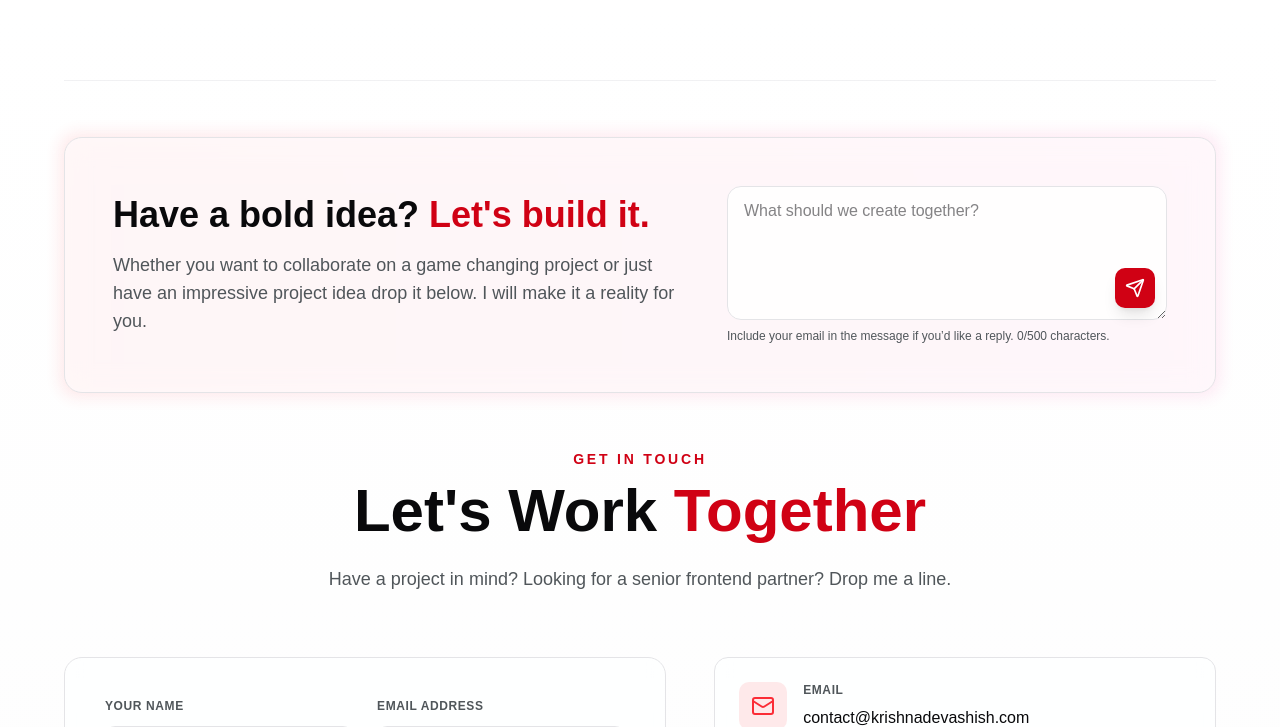
preserves a quick-message draft after failure (rejected=false)
Type "A project idea to discuss." into the text box named "Quick project message" at (947, 253), box [727, 186, 1167, 320]
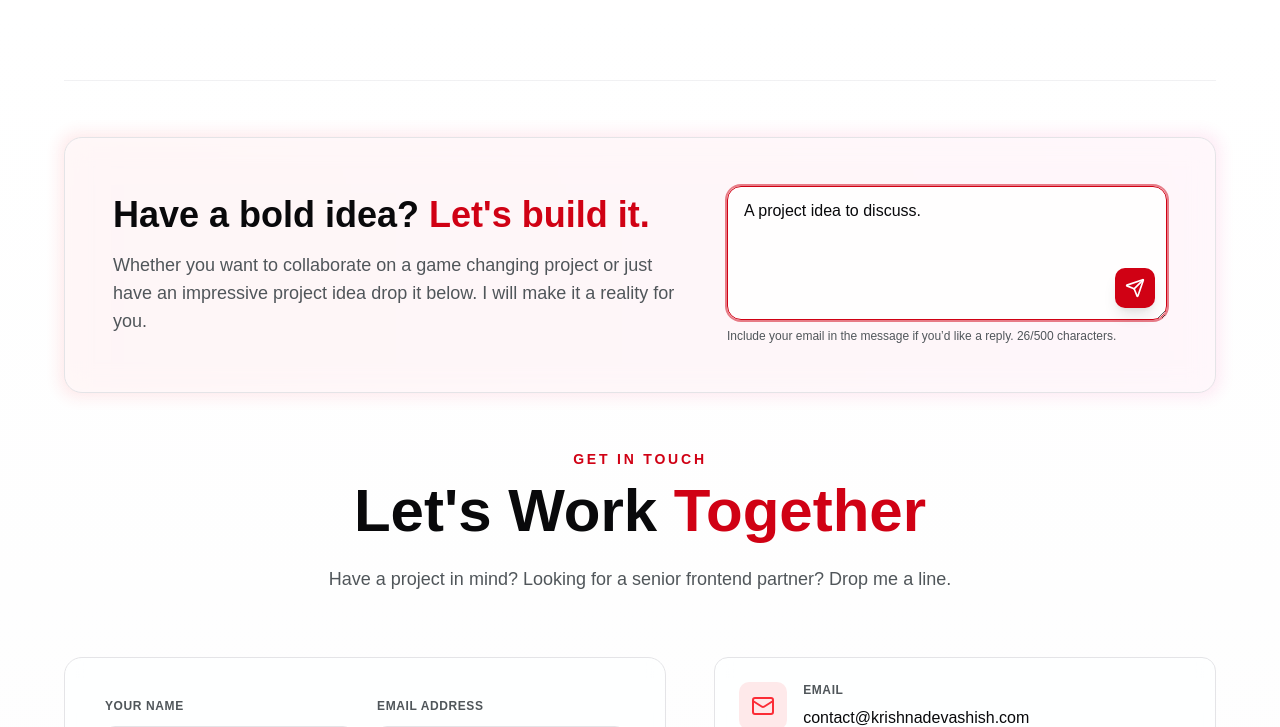
Click the button named "Send message to Krishna" at (1135, 288), box [1115, 268, 1155, 308]
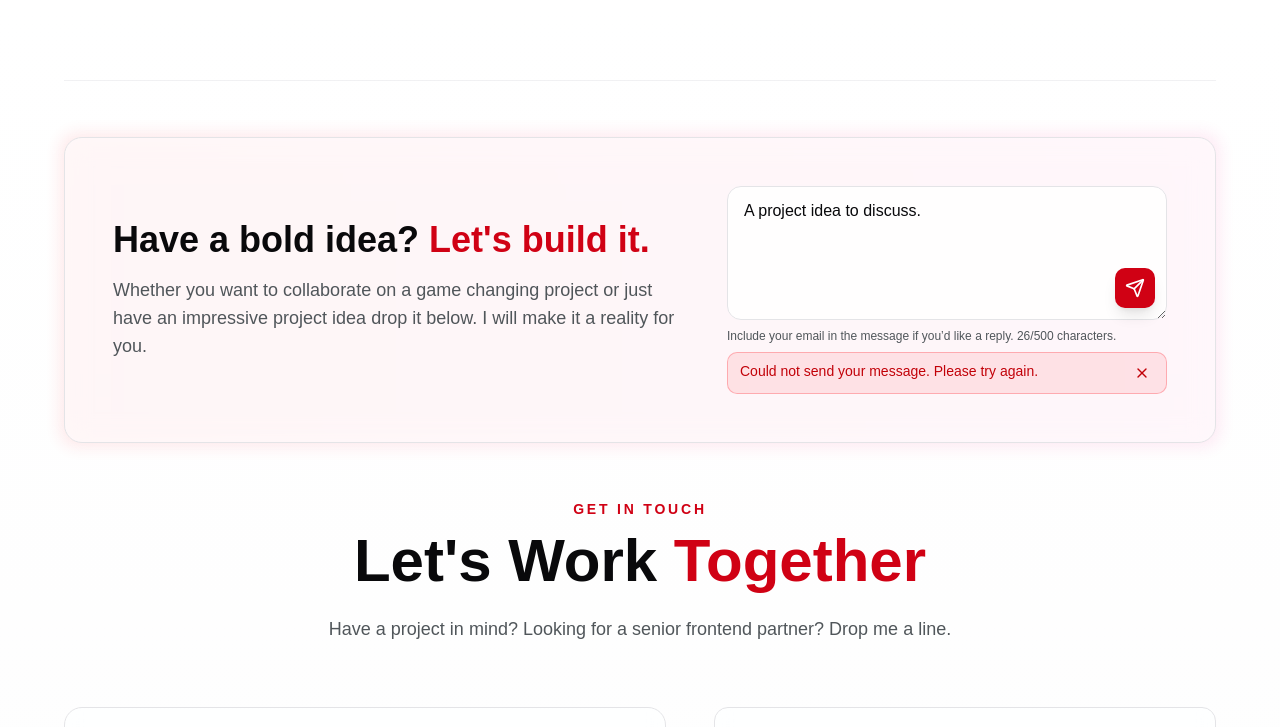
Check: the message reads "Could not send your message. Please try again.", box [740, 363, 1038, 379]
